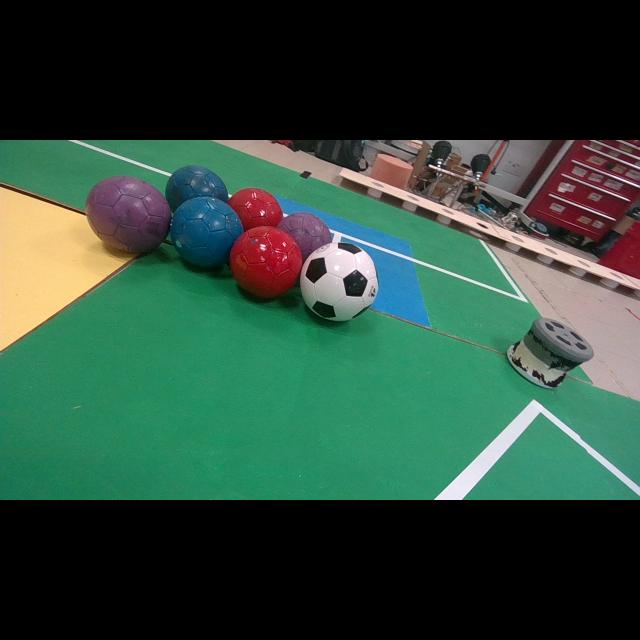B: (170, 196, 244, 268), (165, 165, 229, 211)
P: (86, 176, 171, 252), (278, 212, 332, 261)
R: (230, 226, 302, 298), (228, 189, 282, 231)
